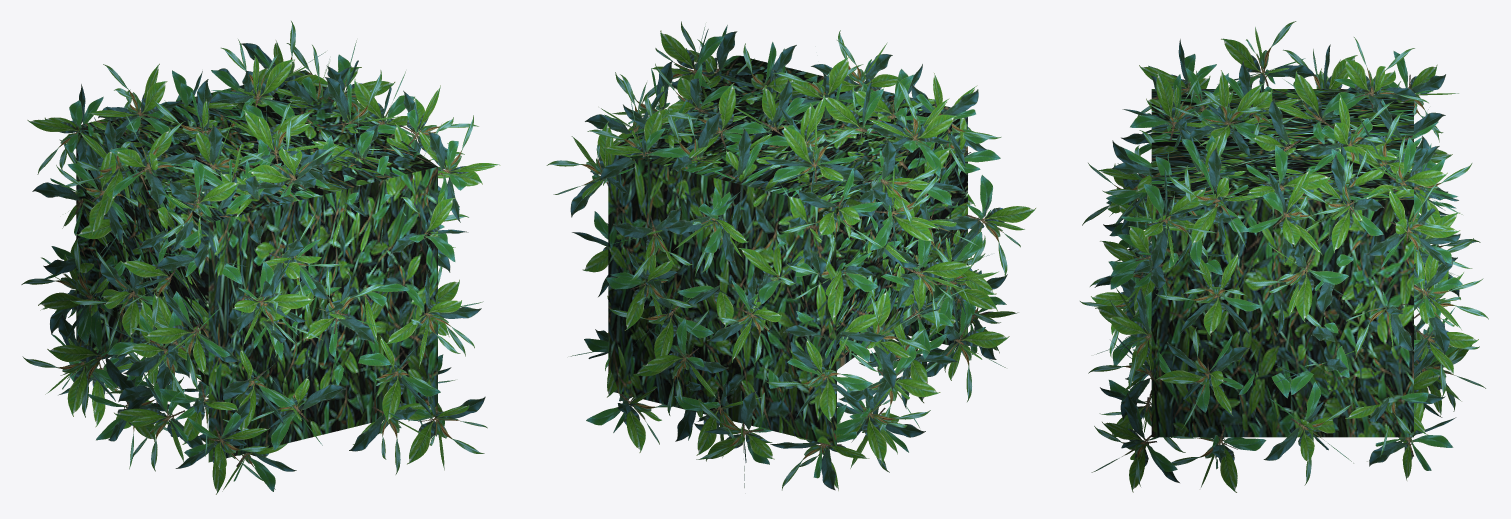
File: HedgeSmall.FBX
3 renders of one model, left to right at view 1: azimuth 30°, elevation 25°; view 2: azimuth 150°, elevation 25°; view 3: azimuth 270°, elevation 25°, orthographic.
Parts seen in each view (by area): view 1: HedgeSmall; view 2: HedgeSmall; view 3: HedgeSmall.
Part boxes in pixels (x1=…): HedgeSmall: x1=21, y1=21, x2=500, y2=494; HedgeSmall: x1=546, y1=21, x2=1035, y2=490; HedgeSmall: x1=1080, y1=21, x2=1488, y2=492.
Bounding box in the file's own units: 25.68 × 25.5 × 25.89.
